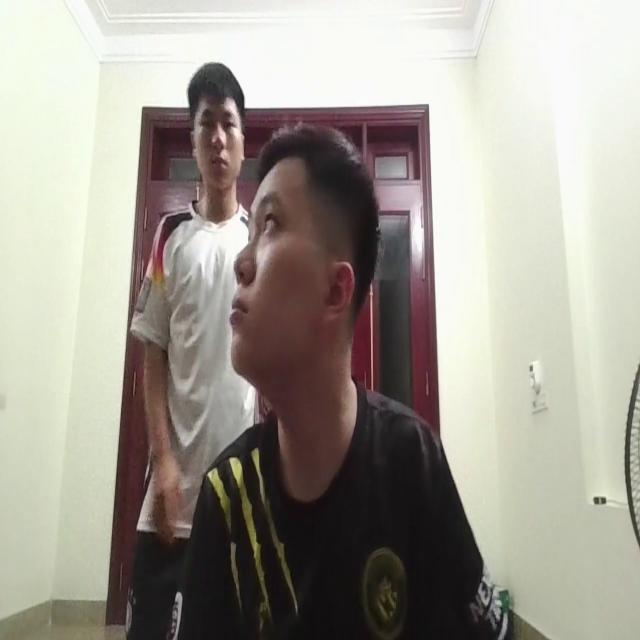extra_person: (121, 49, 267, 522)
student: (214, 104, 491, 640)
